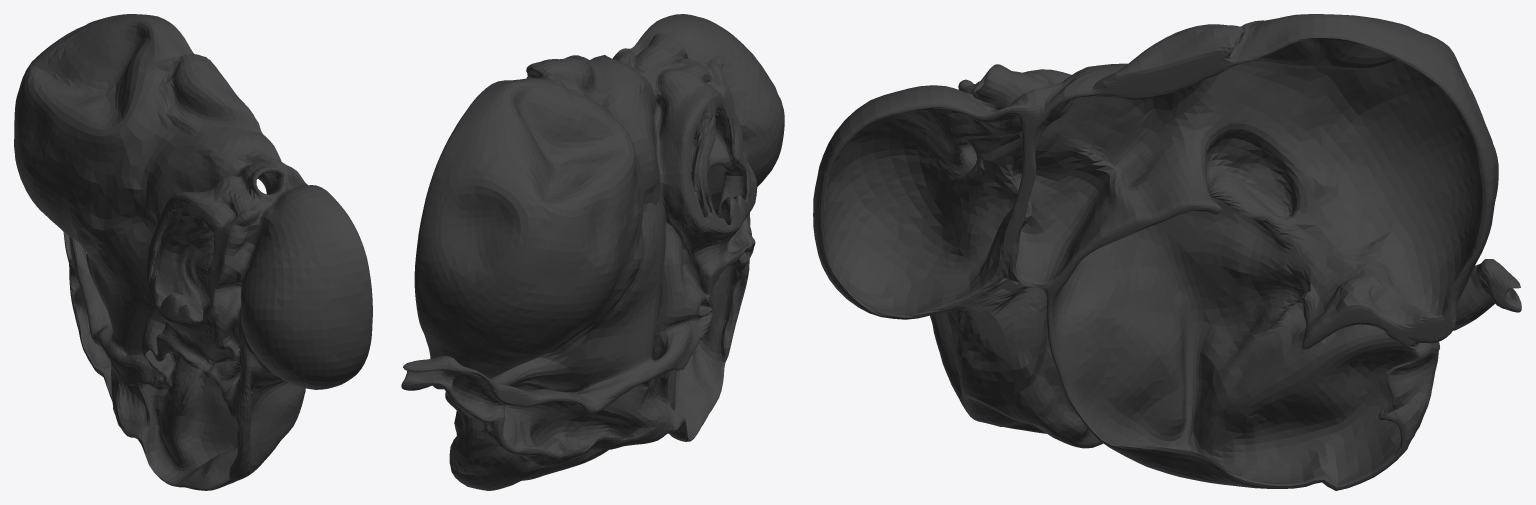
File: Goat_stomach_open_remesh.glb
3 renders of one model, left to right at view 1: azimuth 30°, elevation 25°; view 2: azimuth 150°, elevation 25°; view 3: azimuth 270°, elevation 25°, orthographic. The views are drawn at different scales.
Visible parts, largest first — view 1: Goat_stomach_open_remesh; view 2: Goat_stomach_open_remesh; view 3: Goat_stomach_open_remesh.
Part boxes in pixels (x1,y1,x2,y2): Goat_stomach_open_remesh: (14, 14, 372, 490); Goat_stomach_open_remesh: (401, 14, 784, 490); Goat_stomach_open_remesh: (813, 14, 1521, 490).
Size of the model in its own units: 0.9686 by 2.69 by 3.67.
1 material, 1 textured.
